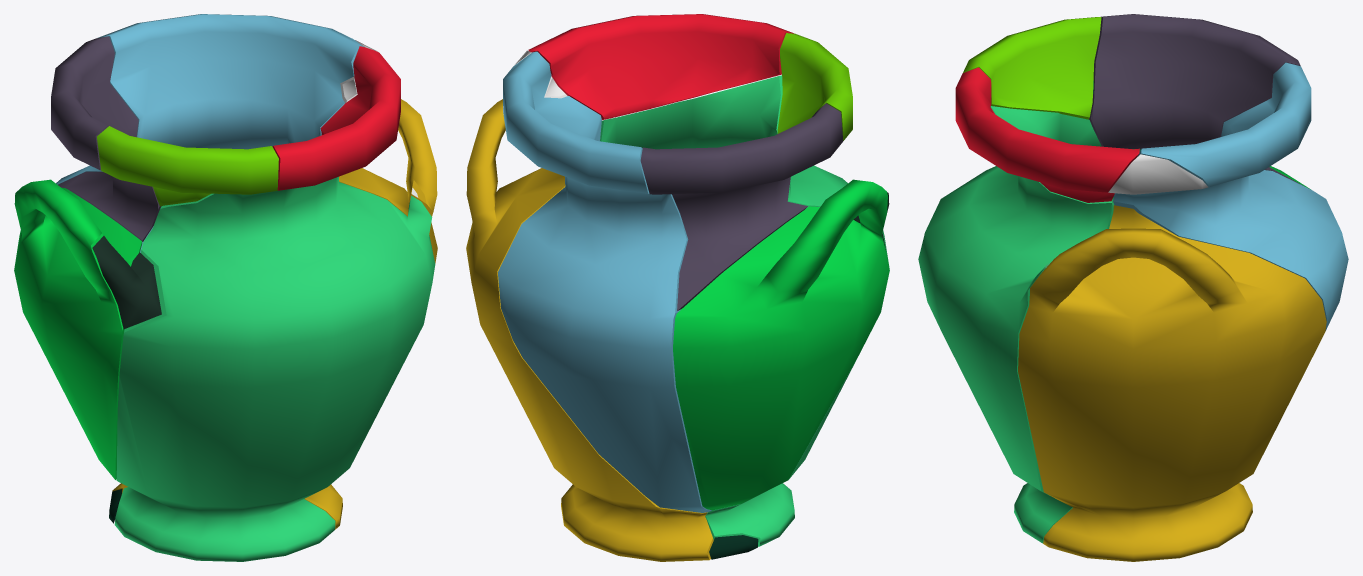
File: claypot01LP1.fbx
3 views of the same model, side by side, from view 1: azimuth 30°, elevation 25°; view 2: azimuth 150°, elevation 25°; view 3: azimuth 270°, elevation 25° (orthographic).
Parts seen in each view (by area): view 1: Cylinder.005_cell.001, Cylinder.005_cell.005, Cylinder.005_cell.002, Cylinder.005_cell, Cylinder.005_cell.009, Cylinder.005_cell.007, Cylinder.005_cell.008, Cylinder.005_cell.003; view 2: Cylinder.005_cell.005, Cylinder.005_cell.002, Cylinder.005_cell.008, Cylinder.005_cell.007, Cylinder.005_cell, Cylinder.005_cell.001, Cylinder.005_cell.009, Cylinder.005_cell.010; view 3: Cylinder.005_cell.008, Cylinder.005_cell.001, Cylinder.005_cell.005, Cylinder.005_cell, Cylinder.005_cell.007, Cylinder.005_cell.009, Cylinder.005_cell.004.
Boxes of the visible parts, x1,y1,x2,y2 form: Cylinder.005_cell.001: (114, 176, 435, 561); Cylinder.005_cell.005: (56, 14, 363, 252); Cylinder.005_cell.002: (14, 179, 142, 479); Cylinder.005_cell: (51, 36, 161, 241); Cylinder.005_cell.009: (97, 126, 278, 206); Cylinder.005_cell.007: (272, 46, 400, 190); Cylinder.005_cell.008: (112, 99, 437, 529); Cylinder.005_cell.003: (92, 236, 161, 328); Cylinder.005_cell.005: (498, 51, 711, 512); Cylinder.005_cell.002: (673, 179, 889, 510); Cylinder.005_cell.008: (466, 99, 713, 561); Cylinder.005_cell.007: (528, 14, 793, 119); Cylinder.005_cell: (640, 103, 843, 310); Cylinder.005_cell.001: (600, 75, 887, 546); Cylinder.005_cell.009: (777, 33, 852, 140); Cylinder.005_cell.010: (709, 535, 758, 559); Cylinder.005_cell.008: (1018, 205, 1326, 561); Cylinder.005_cell.001: (918, 106, 1114, 543); Cylinder.005_cell.005: (1113, 62, 1348, 330); Cylinder.005_cell: (1089, 14, 1304, 186); Cylinder.005_cell.007: (955, 67, 1139, 202); Cylinder.005_cell.009: (963, 17, 1101, 119); Cylinder.005_cell.004: (1108, 154, 1208, 194).
Bounding box in the file's own units: 0.6401 × 0.7136 × 0.6464.
